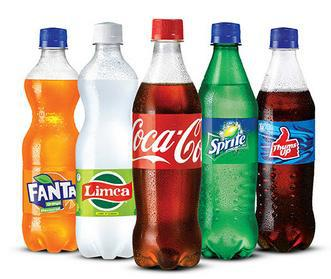fanta: (25, 30, 78, 248)
